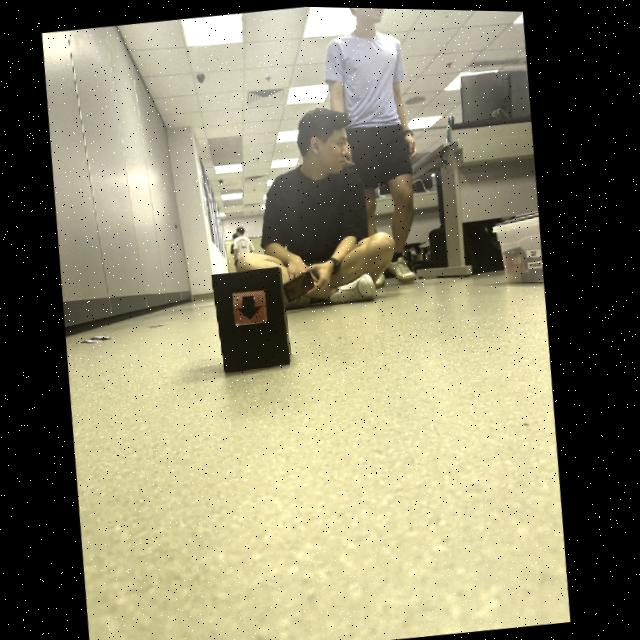DOWN: (240, 294, 264, 317)
